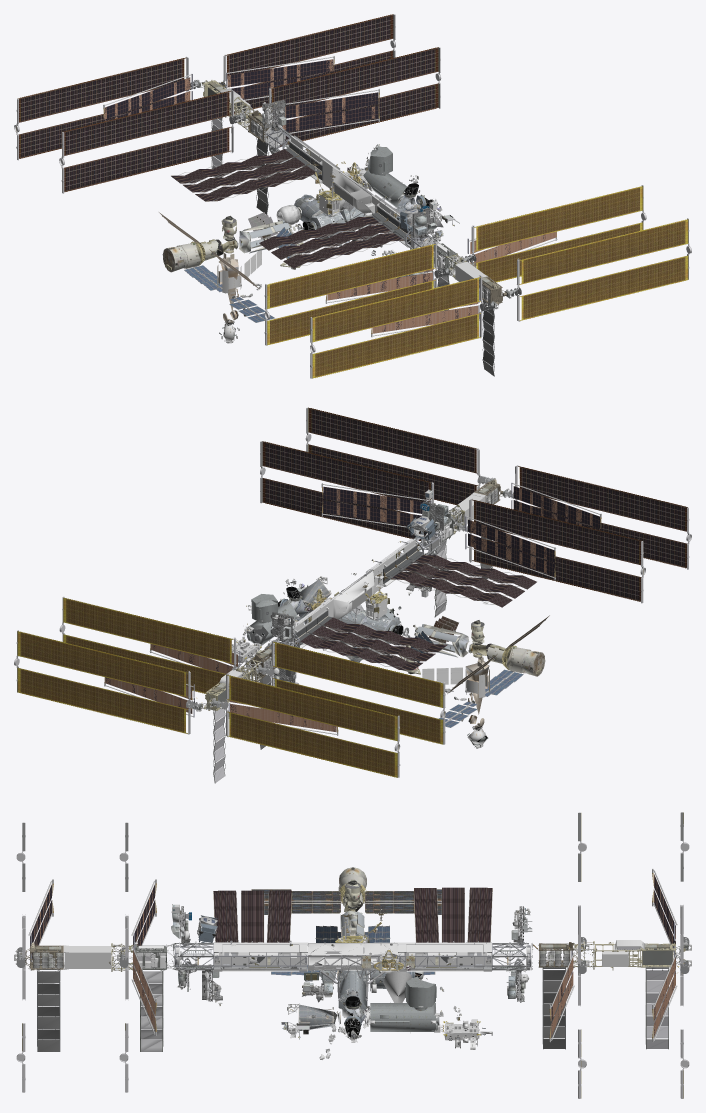
File: iss.glb
The picture shows the model from 3 angles, top to bottom: view 1: azimuth 30°, elevation 25°; view 2: azimuth 150°, elevation 25°; view 3: azimuth 270°, elevation 25°; orthographic projection. The views are drawn at different scales.
Visible parts, largest first — view 1: Payload_MISSE_FF, IROSA_Deployed_P44A, Airlock, MLM, Zvezda_SM, Zarya_FGB, mirror, JEM_PM, JEM_PS; view 2: Payload_MISSE_FF, IROSA_Deployed_P44A, Airlock, MLM, Zvezda_SM, Zarya_FGB, mirror, JEM_PM, JEM_PS; view 3: Payload_MISSE_FF, Airlock, IROSA_Deployed_P44A, Zvezda_SM, JEM_PM, Zarya_FGB, JEM_PS, USLab, Columbus, PMM, mirror, Payload_BCDU4 (+3 smaller).
Boxes of the visible parts, x1=… form: Payload_MISSE_FF: x1=14, y1=14, x2=691, y2=378; IROSA_Deployed_P44A: x1=103, y1=56, x2=557, y2=337; Airlock: x1=190, y1=79, x2=519, y2=309; MLM: x1=184, y1=250, x2=274, y2=324; Zvezda_SM: x1=159, y1=212, x2=259, y2=289; Zarya_FGB: x1=234, y1=212, x2=301, y2=258; mirror: x1=294, y1=194, x2=425, y2=238; JEM_PM: x1=363, y1=169, x2=406, y2=207; JEM_PS: x1=367, y1=146, x2=392, y2=175; Payload_MISSE_FF: x1=14, y1=407, x2=691, y2=783; IROSA_Deployed_P44A: x1=104, y1=482, x2=601, y2=735; Airlock: x1=188, y1=476, x2=513, y2=711; MLM: x1=422, y1=656, x2=523, y2=729; Zvezda_SM: x1=447, y1=615, x2=549, y2=693; Zarya_FGB: x1=403, y1=616, x2=472, y2=662; mirror: x1=280, y1=596, x2=397, y2=659; JEM_PM: x1=247, y1=604, x2=297, y2=645; JEM_PS: x1=251, y1=594, x2=277, y2=623; Payload_MISSE_FF: x1=16, y1=812, x2=689, y2=1098; Airlock: x1=14, y1=906, x2=691, y2=1060; IROSA_Deployed_P44A: x1=28, y1=868, x2=686, y2=1042; Zvezda_SM: x1=251, y1=867, x2=441, y2=922; JEM_PM: x1=370, y1=1003, x2=439, y2=1031; Zarya_FGB: x1=315, y1=910, x2=390, y2=942; JEM_PS: x1=405, y1=976, x2=436, y2=1009; USLab: x1=337, y1=970, x2=368, y2=1014; Columbus: x1=298, y1=1004, x2=339, y2=1030; PMM: x1=383, y1=970, x2=412, y2=1002; mirror: x1=337, y1=960, x2=414, y2=1026; Payload_BCDU4: x1=172, y1=913, x2=529, y2=998.
Bounding box in the file's own units: 80.53 × 33.33 × 109.
Materials: 40 (38 with a texture image).
